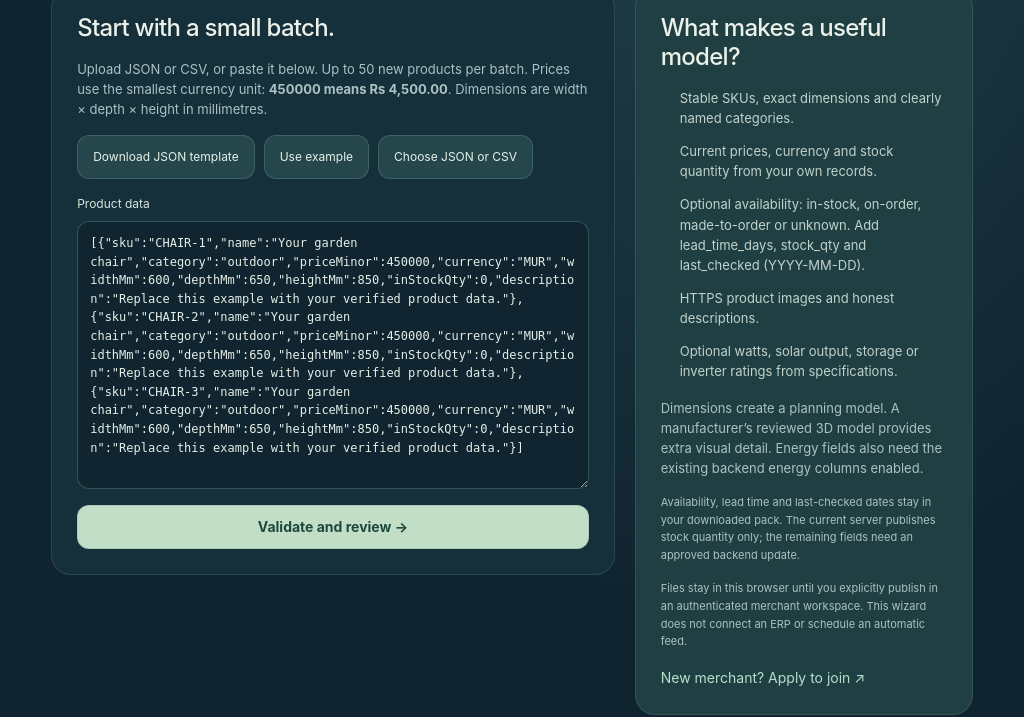
Scenario: explicit authenticated catalogue publication › stops at an unknown outcome and never retries it or later products
(page scrolled)
What coordinates should you click on to do the following:
click the button "Validate and review →"
I would click on:
 (333, 527)
Its box is [77,505,589,549].
(page scrolled)
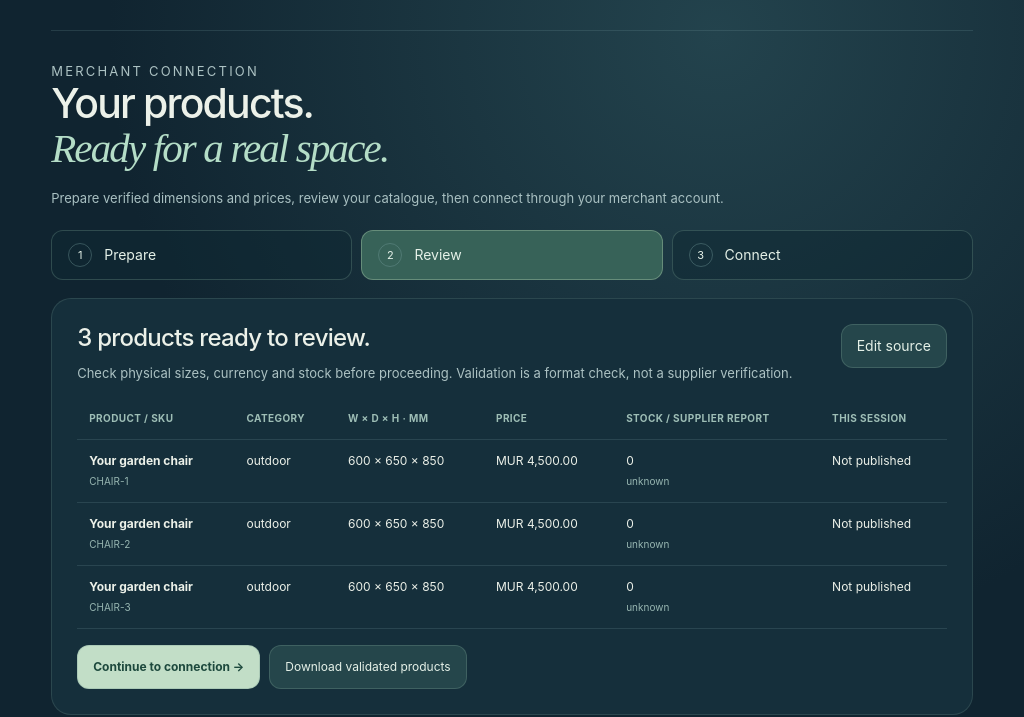
What coordinates should you click on to do the following:
click the button "Continue to connection →"
I would click on:
 (169, 667)
Its box is [77,645,260,689].
(page scrolled)
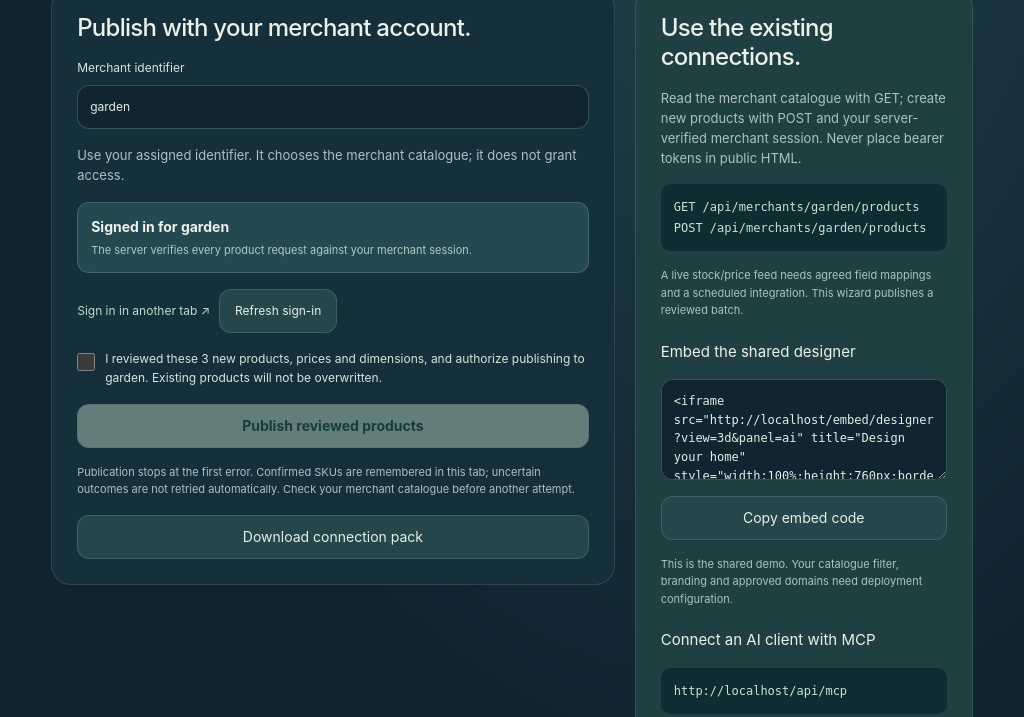
What coordinates should you click on to do the following:
click the checkbox
I would click on:
 (86, 362)
Its box is [77,353,95,371].
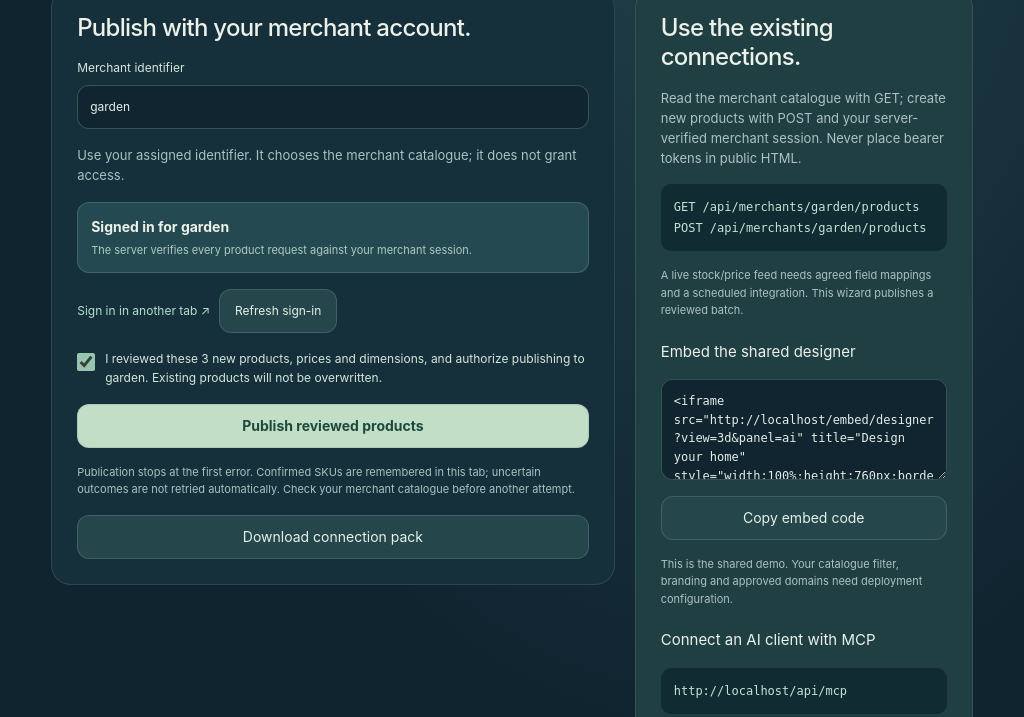
What coordinates should you click on to do the following:
click the button "Publish reviewed products"
I would click on:
 (333, 426)
Its box is [77,404,589,448].
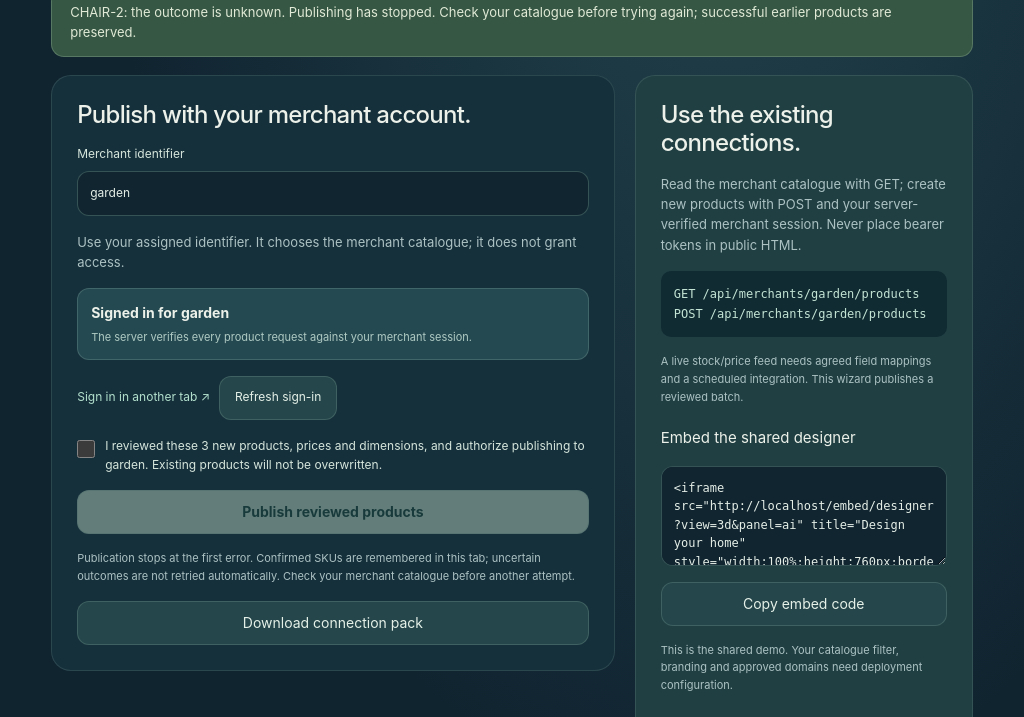
What coordinates should you click on to do the following:
click the checkbox
I would click on:
 (86, 448)
Its box is [77,440,95,458].
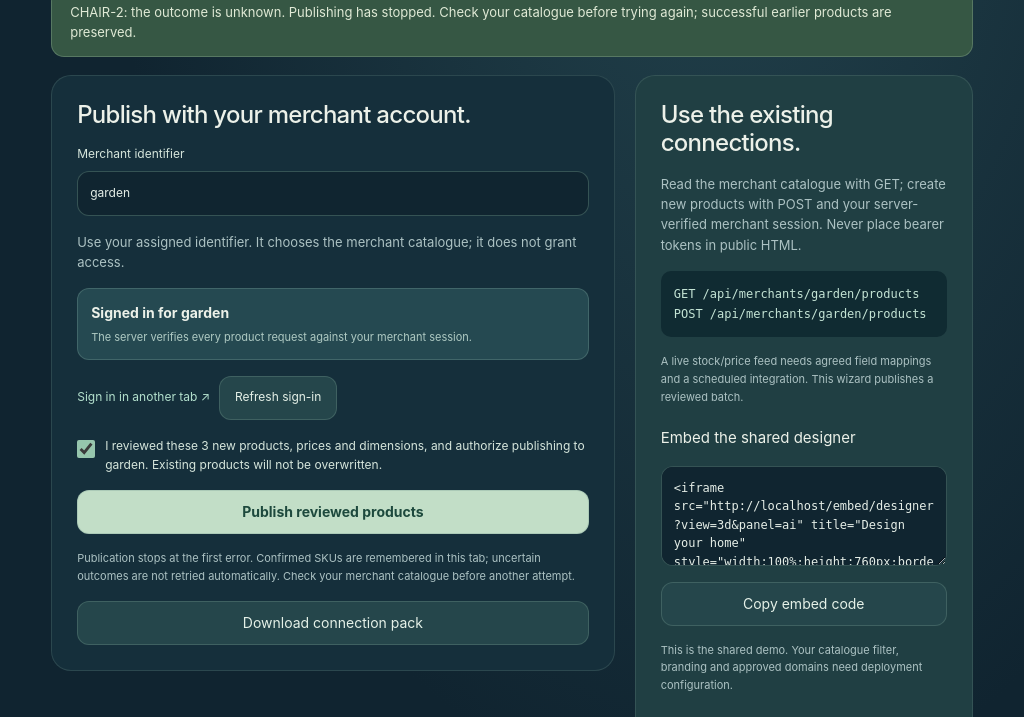
What coordinates should you click on to do the following:
click the button "Publish reviewed products"
I would click on:
 (333, 512)
Its box is [77,490,589,534].
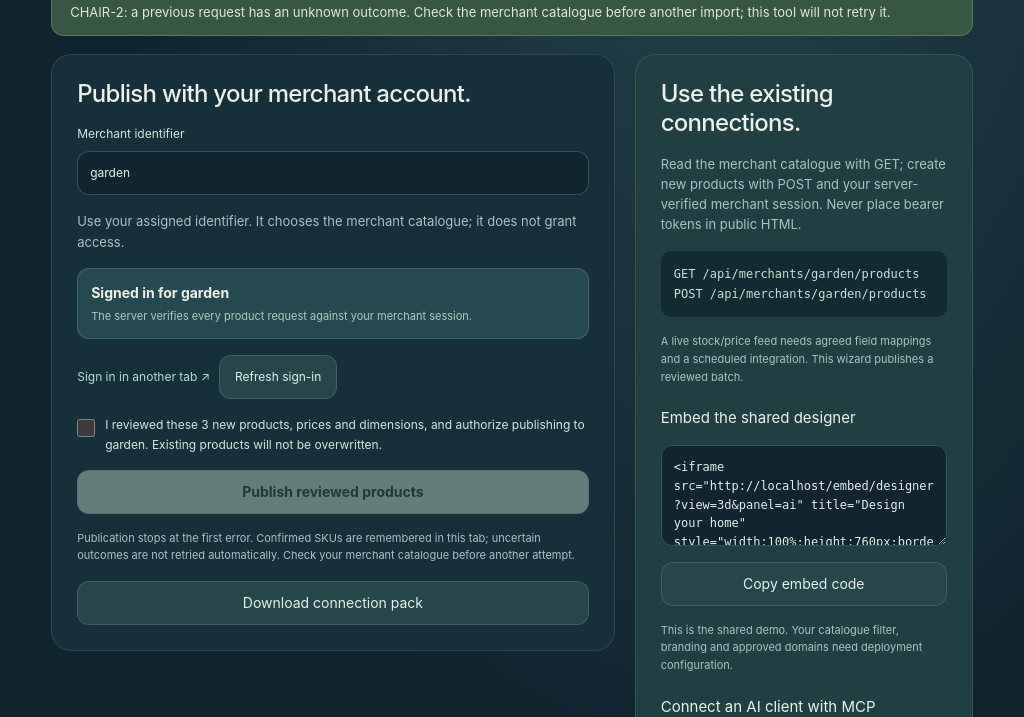
Check: the text "previous request has an unknown outcome" is shown, box [70,4,891,20]
